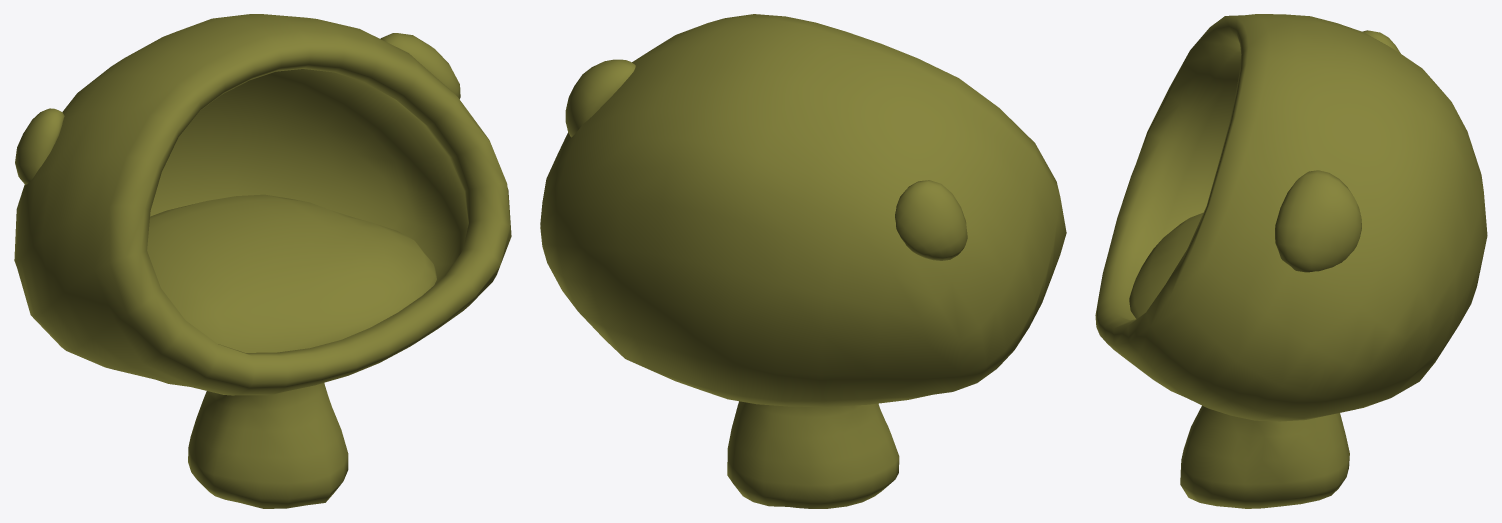
The model's file is SM_Pool_notinfected.fbx.
3 views of the same model, side by side, from view 1: azimuth 30°, elevation 25°; view 2: azimuth 150°, elevation 25°; view 3: azimuth 270°, elevation 25° (orthographic). The views are drawn at different scales.
Visible parts, largest first — view 1: SM_Pool_notinfected; view 2: SM_Pool_notinfected; view 3: SM_Pool_notinfected.
Boxes of the visible parts, bbox=[...] form: SM_Pool_notinfected: bbox=[14, 14, 511, 508]; SM_Pool_notinfected: bbox=[540, 14, 1066, 508]; SM_Pool_notinfected: bbox=[1095, 14, 1487, 508].
Bounding box in the file's own units: 268 × 259 × 203.
